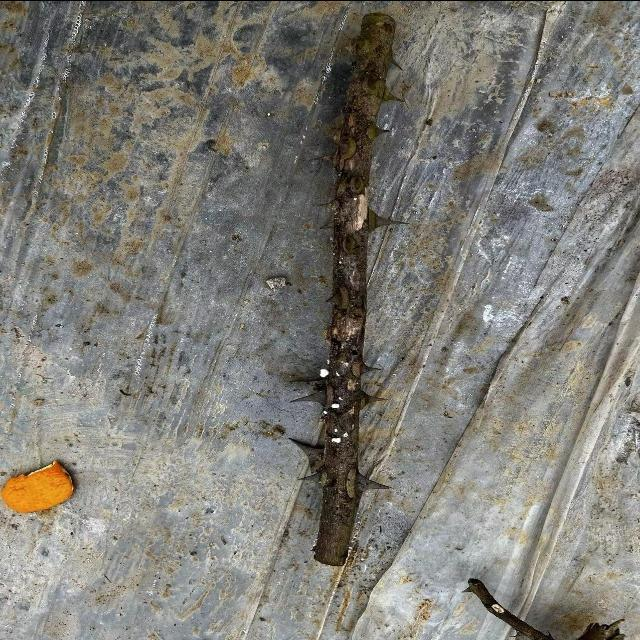branch: (315, 15, 392, 567)
